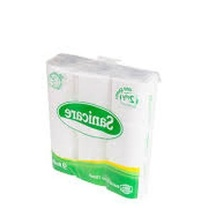tissue: (38, 44, 168, 207)
